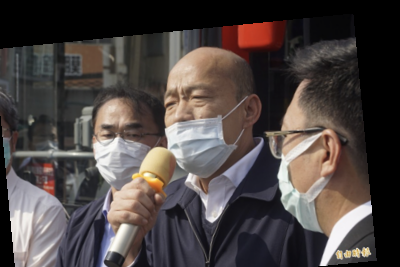mask_weared_incorrect: (164, 44, 265, 178)
